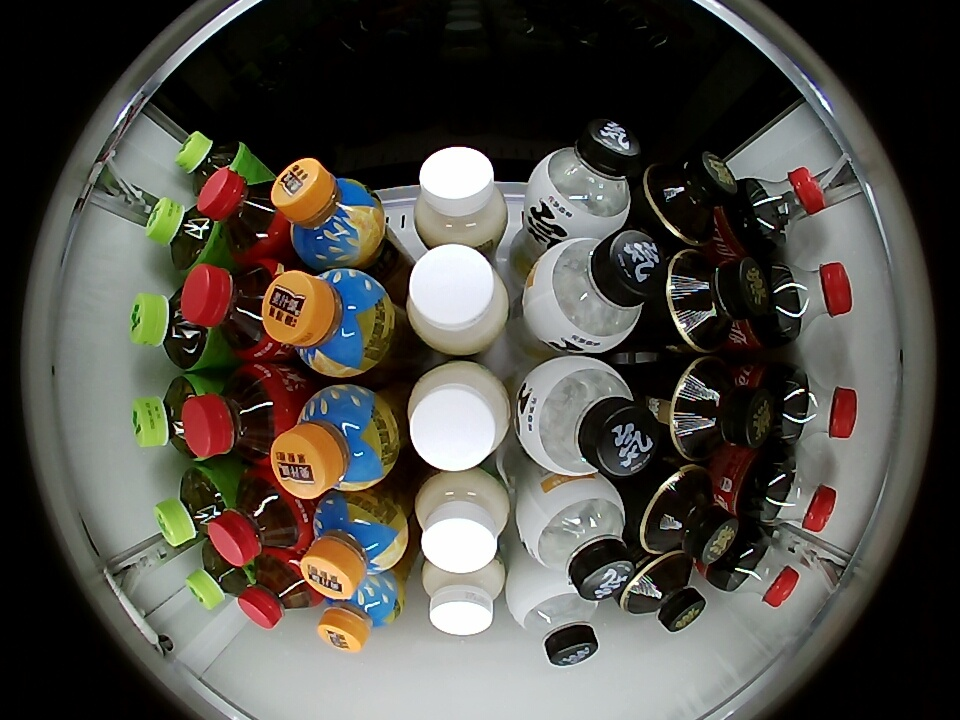binghongcha: (182, 363, 291, 461), (209, 460, 307, 567), (181, 261, 283, 361), (199, 165, 289, 259), (239, 551, 318, 630)
guolicheng: (270, 384, 399, 499), (263, 267, 393, 378), (272, 158, 383, 267), (300, 490, 408, 600), (318, 573, 405, 651)
kele-b: (768, 259, 852, 341), (715, 530, 802, 607), (757, 453, 838, 534), (744, 167, 825, 246), (776, 368, 858, 444)
rancha-1: (666, 251, 771, 353), (670, 357, 775, 459), (639, 465, 741, 564), (644, 151, 739, 245), (620, 552, 706, 633)
yitengyuan: (129, 290, 210, 370), (132, 373, 206, 458), (155, 465, 231, 547), (146, 197, 217, 269), (186, 543, 253, 610), (175, 131, 246, 191)
yousuanru: (406, 360, 512, 471), (405, 244, 510, 356), (414, 468, 511, 574), (413, 146, 509, 252), (422, 555, 507, 636)
yuanqishui: (515, 356, 661, 478), (526, 229, 665, 354), (517, 474, 634, 600), (528, 118, 640, 234), (508, 572, 600, 666)
